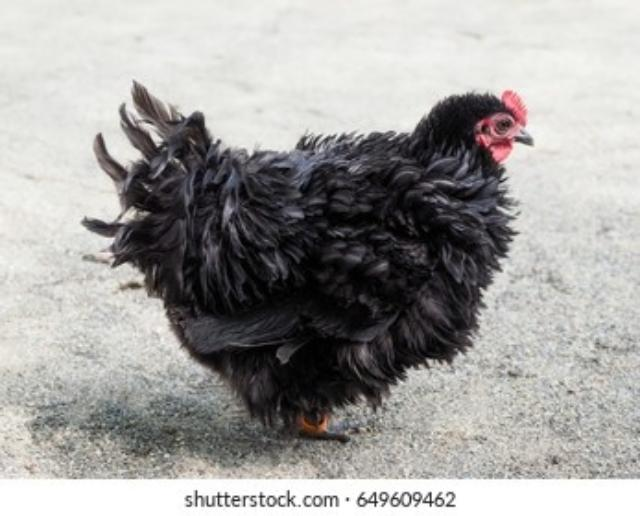Chicken: (82, 79, 536, 442)
